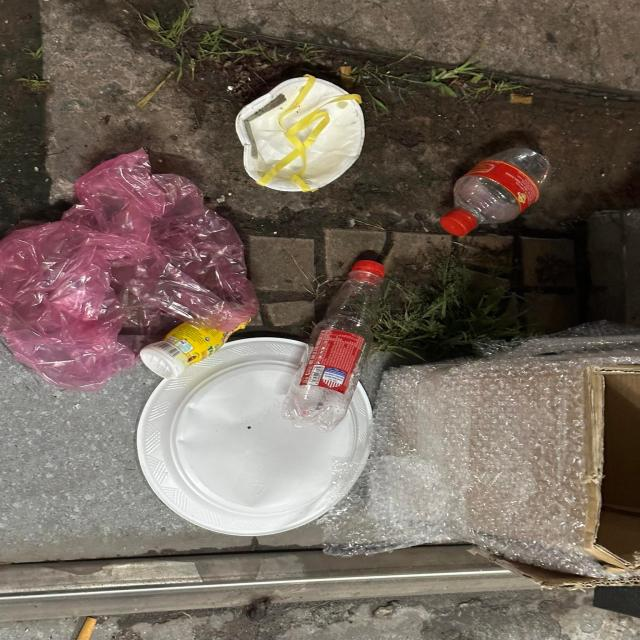bag: (0, 148, 258, 391)
bottle: (283, 260, 386, 433), (440, 147, 555, 236), (138, 307, 250, 380)
mask: (232, 72, 366, 193)
plastic holder: (134, 335, 377, 537)
